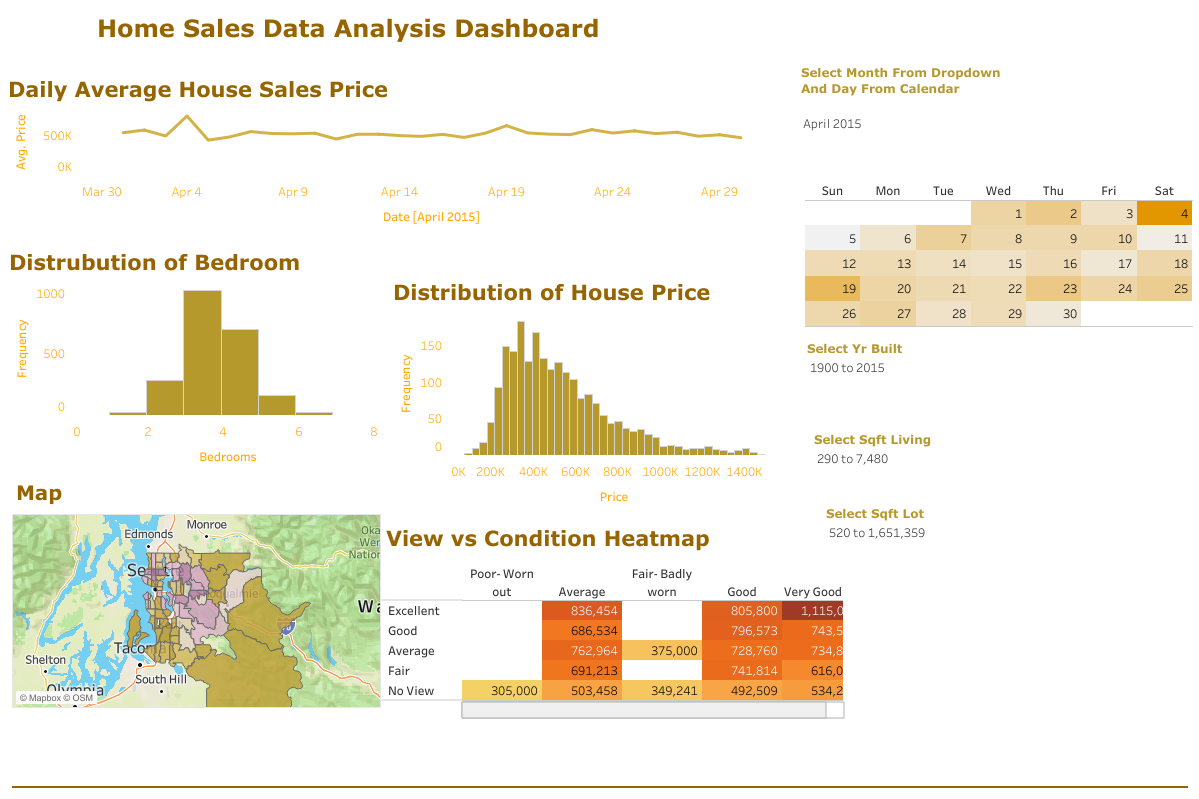

What the dashboard file says about the page in this screenshot:
{"tool":"tableau","page":{"name":"Dashboard 1","canvas":[1200,800],"ordinal":0},"visuals":[{"type":"text","box":[8,8,1184,38]},{"type":"filter","title":"Calender","param":"[federated.1er5eoy0ay6ac110r95ho0a34r0x].[my:date:ok]","box":[801.2,63.2,393.2,103.2]},{"type":"worksheet","title":"Line Chart","mark":"Automatic","rows":["price"],"cols":["date"],"box":[4,69,779,163]},{"type":"worksheet","title":"Calender","mark":"Square","rows":["date"],"cols":["date"],"box":[804.9,180,387.7,147.4]},{"type":"worksheet","title":"Histogram Bedroom","mark":"Automatic","rows":["bedrooms"],"cols":["Bedrooms (bin)"],"box":[5,242,379,230]},{"type":"worksheet","title":"Histogram House Price","mark":"Automatic","rows":["price"],"cols":["Price (bin)"],"box":[389,272,390,240]},{"type":"filter","title":"Calender","param":"[federated.1er5eoy0ay6ac110r95ho0a34r0x].[none:yr_built:qk]","box":[807,339,387,79]},{"type":"worksheet","title":"Map","mark":"Automatic","box":[12,473,369,235]},{"type":"filter","title":"Calender","param":"[federated.1er5eoy0ay6ac110r95ho0a34r0x].[none:sqft_lot:qk]","box":[826,504,360,62]},{"type":"worksheet","title":"Heatmap","mark":"Square","rows":["view"],"cols":["condition"],"box":[382,518,462,221]},{"type":"blank","box":[8,782,1184,10]}]}

Visuals, with their boxes in screenshot pixels (x1, y1, x2, y2), scaled from the page's 1200x800 canvas onto the 1199x799 screenshot:
text: locate(8, 8, 1191, 46)
"Calender" filter: locate(801, 63, 1193, 166)
"Line Chart" worksheet: locate(4, 69, 782, 232)
"Calender" worksheet (Square marks): locate(804, 180, 1192, 327)
"Histogram Bedroom" worksheet: locate(5, 242, 384, 471)
"Histogram House Price" worksheet: locate(389, 272, 778, 511)
"Calender" filter: locate(806, 339, 1193, 417)
"Map" worksheet: locate(12, 472, 381, 707)
"Calender" filter: locate(825, 503, 1185, 565)
"Heatmap" worksheet (Square marks): locate(382, 517, 843, 738)
blank: locate(8, 781, 1191, 791)
